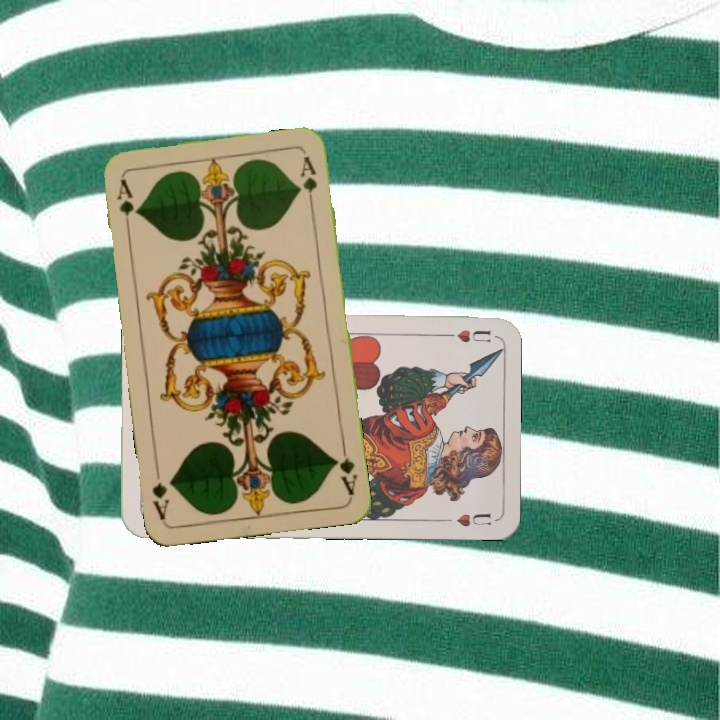GA: (330, 439, 360, 498), (112, 174, 140, 233)
HU: (436, 325, 493, 345)
